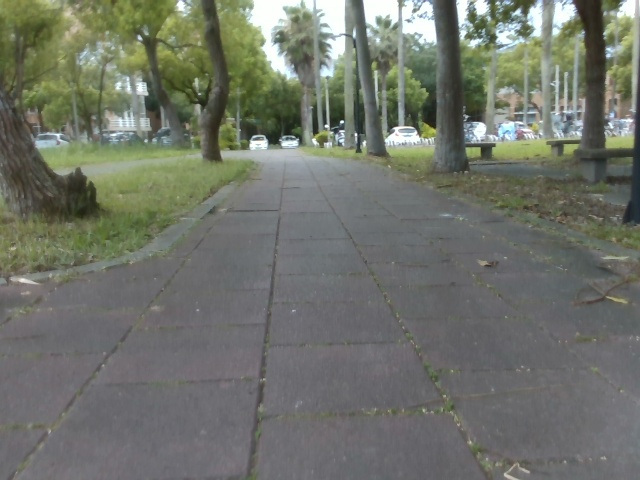grass: (0, 0, 639, 222), (301, 136, 639, 260), (0, 139, 251, 287)
road: (0, 150, 639, 479)
